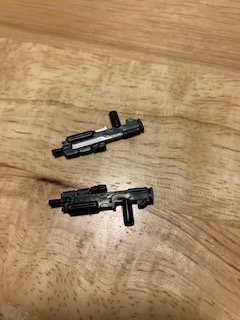rifle: (47, 181, 155, 228), (51, 109, 145, 161)
